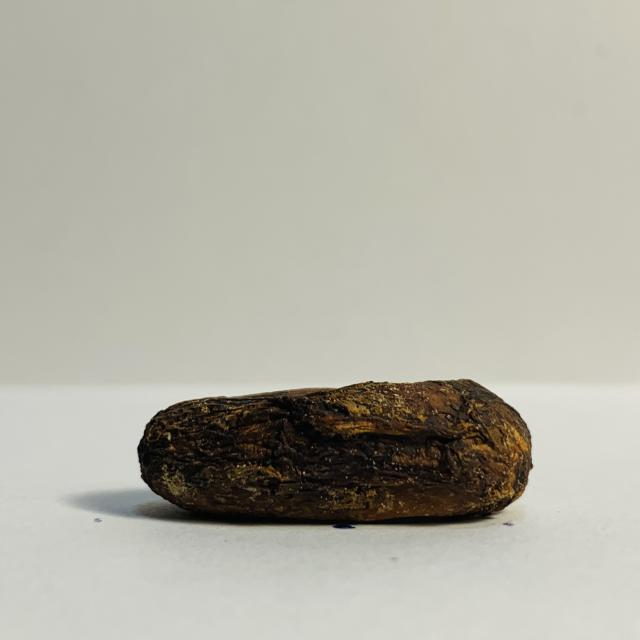Fine_cocoabeans: (80, 307, 640, 640)
